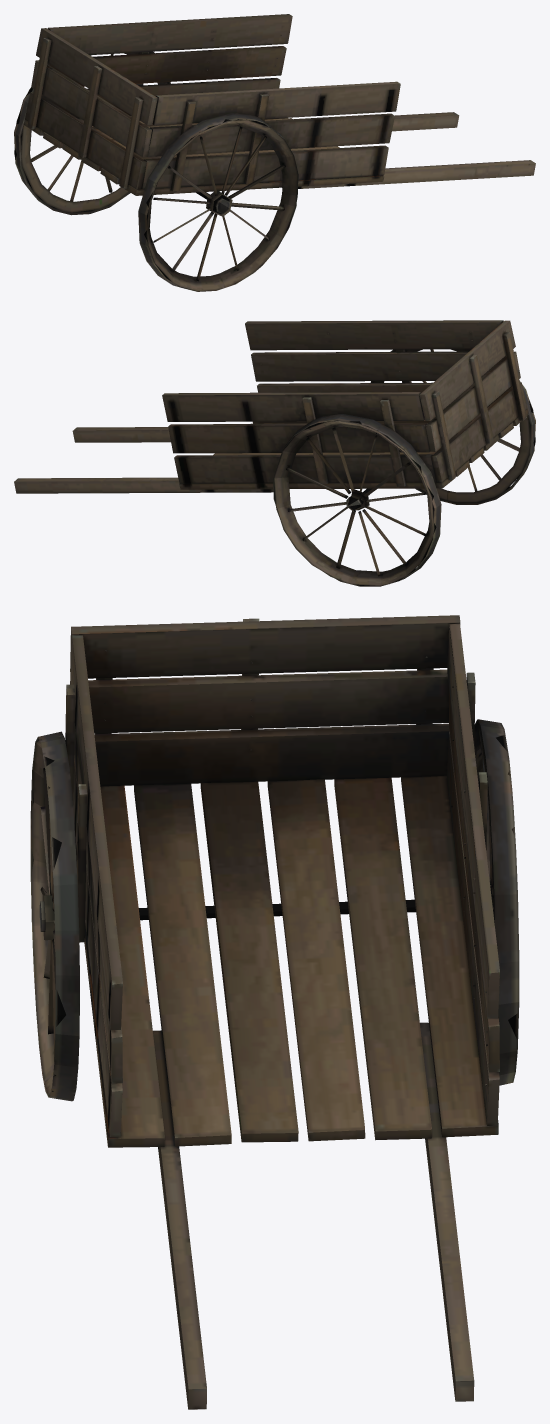
File: carriage1.fbx
3 views of the same model, one above another, from view 1: azimuth 30°, elevation 25°; view 2: azimuth 150°, elevation 25°; view 3: azimuth 270°, elevation 25° (orthographic). The views are drawn at different scales.
Visible parts, largest first — view 1: carriage1; view 2: carriage1; view 3: carriage1.
Boxes of the visible parts, box(x1,y1,x2,y2) form: carriage1: box(14, 14, 535, 291); carriage1: box(14, 320, 535, 586); carriage1: box(30, 615, 519, 1409).
Bounding box in the file's own units: 8.41 × 3.66 × 4.08.
